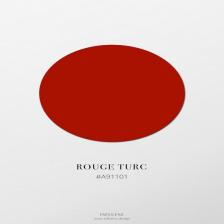red: (39, 45, 185, 142)
